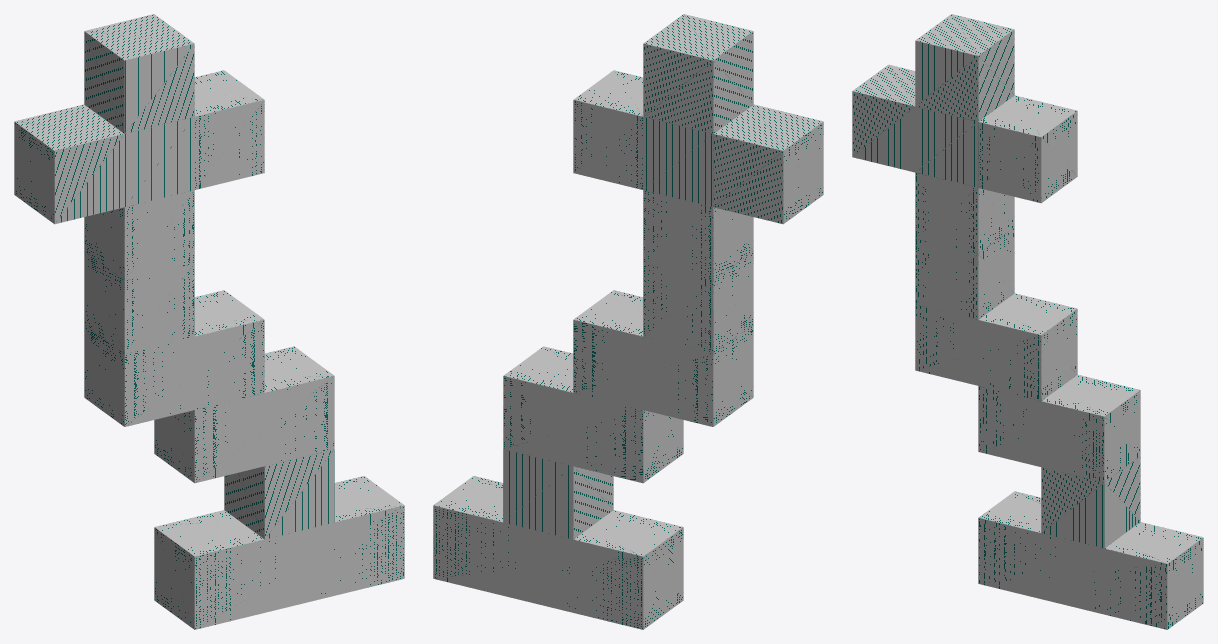
File: flower-02.fbx
3 renders of one model, left to right at view 1: azimuth 30°, elevation 25°; view 2: azimuth 150°, elevation 25°; view 3: azimuth 330°, elevation 25°, orthographic. The views are drawn at different scales.
Parts seen in each view (by area): view 1: generated; view 2: generated; view 3: generated.
Boxes of the visible parts, left/top/right/bottom form: generated: left=14, top=14, right=404, bottom=629; generated: left=433, top=14, right=823, bottom=629; generated: left=852, top=14, right=1203, bottom=629.
Size of the model in its own units: 50 by 80 by 10.
Materials: 1 (1 with a texture image).
